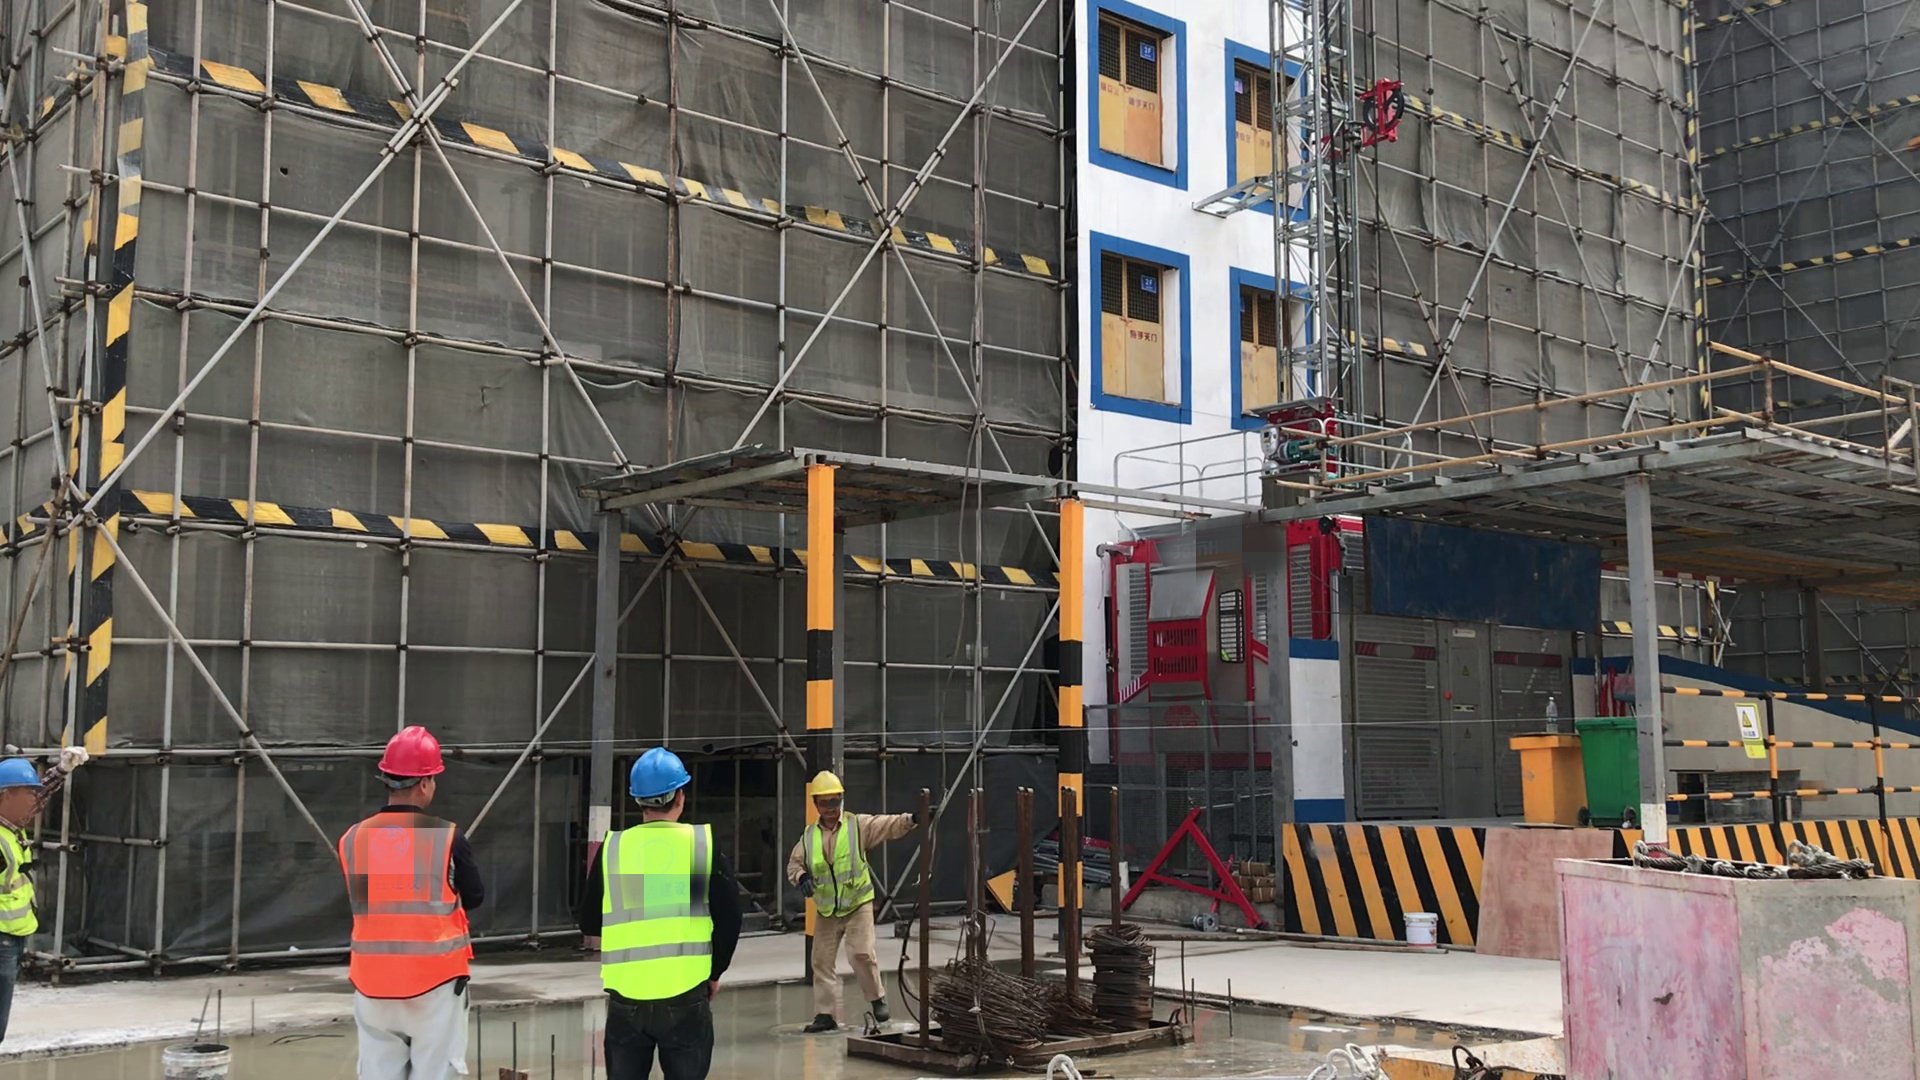helmet: (373, 721, 445, 782), (624, 747, 691, 803), (1, 753, 40, 792), (807, 771, 845, 801)
person: (580, 745, 743, 1079), (337, 721, 485, 1080), (788, 764, 931, 1034), (1, 752, 44, 1060)
vest: (331, 805, 476, 1011), (588, 818, 717, 1005), (803, 816, 879, 917), (1, 819, 38, 947)
